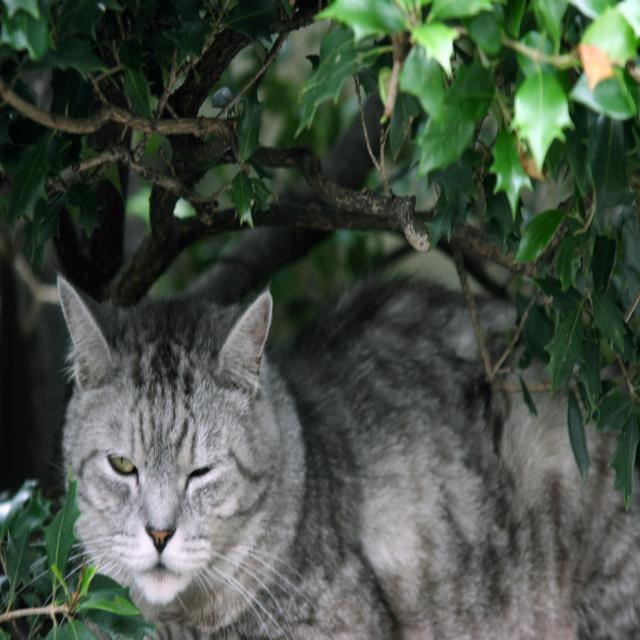cat: (56, 271, 640, 639)
